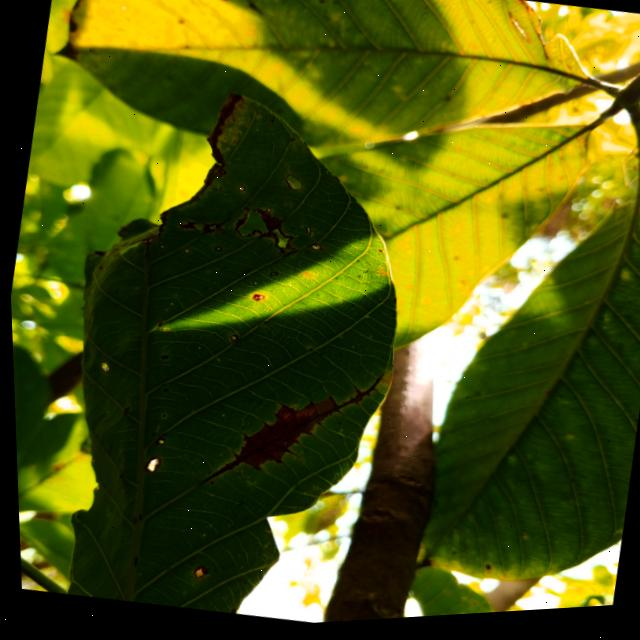Colletotrichum: (140, 456, 159, 477), (151, 439, 163, 448), (211, 248, 221, 255), (227, 337, 234, 344), (181, 250, 188, 256), (156, 246, 163, 251)
Corynespora: (190, 346, 386, 518)
